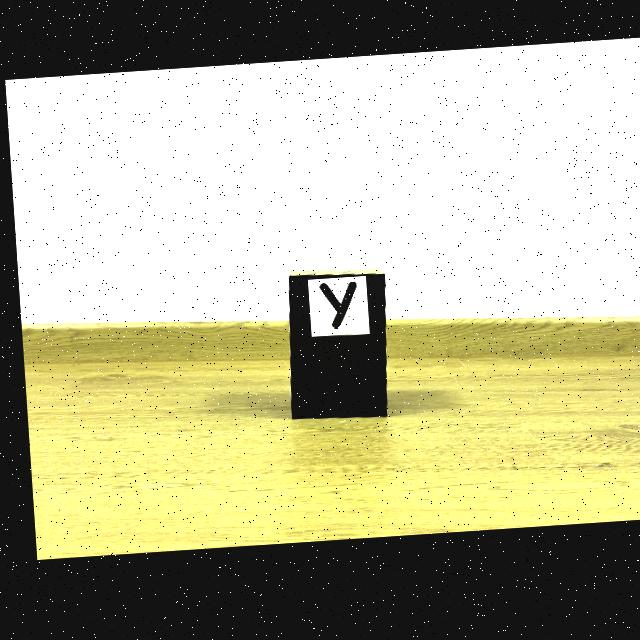Y: (315, 287, 352, 333)
